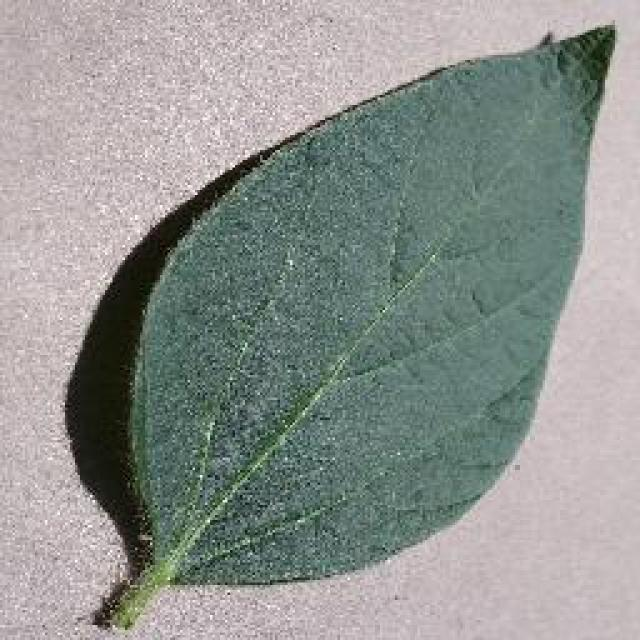Soy_healthy: (154, 78, 581, 541)
